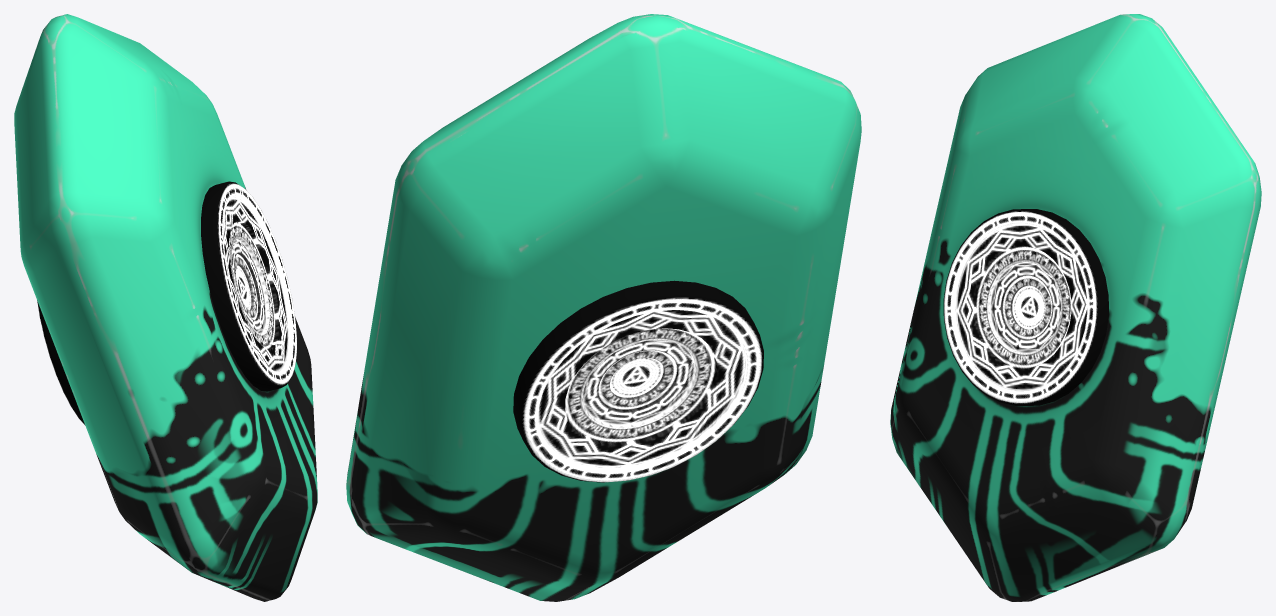
Rendered from rubis_crepuscule.glb.
3 renders of one model, left to right at view 1: azimuth 30°, elevation 25°; view 2: azimuth 150°, elevation 25°; view 3: azimuth 270°, elevation 25°, orthographic. The views are drawn at different scales.
Parts seen in each view (by area): view 1: Rubis_Crepuscule_3, Rubis_Crepuscule.001_0, Rubis_Crepuscule.002_1, Rubis_Crepuscule.003_2; view 2: Rubis_Crepuscule_3, Rubis_Crepuscule.001_0, Rubis_Crepuscule.002_1, Rubis_Crepuscule.003_2; view 3: Rubis_Crepuscule_3, Rubis_Crepuscule.001_0, Rubis_Crepuscule.002_1, Rubis_Crepuscule.003_2.
Boxes of the visible parts, <box> form: Rubis_Crepuscule_3: <box>14,14,317,601</box>; Rubis_Crepuscule.001_0: <box>223,197,288,371</box>; Rubis_Crepuscule.002_1: <box>229,222,275,348</box>; Rubis_Crepuscule.003_2: <box>231,239,265,333</box>; Rubis_Crepuscule_3: <box>346,14,861,601</box>; Rubis_Crepuscule.001_0: <box>538,310,745,467</box>; Rubis_Crepuscule.002_1: <box>565,328,715,442</box>; Rubis_Crepuscule.003_2: <box>583,340,694,424</box>; Rubis_Crepuscule_3: <box>890,14,1261,601</box>; Rubis_Crepuscule.001_0: <box>956,223,1087,391</box>; Rubis_Crepuscule.002_1: <box>976,246,1071,368</box>; Rubis_Crepuscule.003_2: <box>990,262,1061,352</box>.
Size of the model in its own units: 0.2369 by 0.3925 by 0.2541.
1 material, 1 textured.
